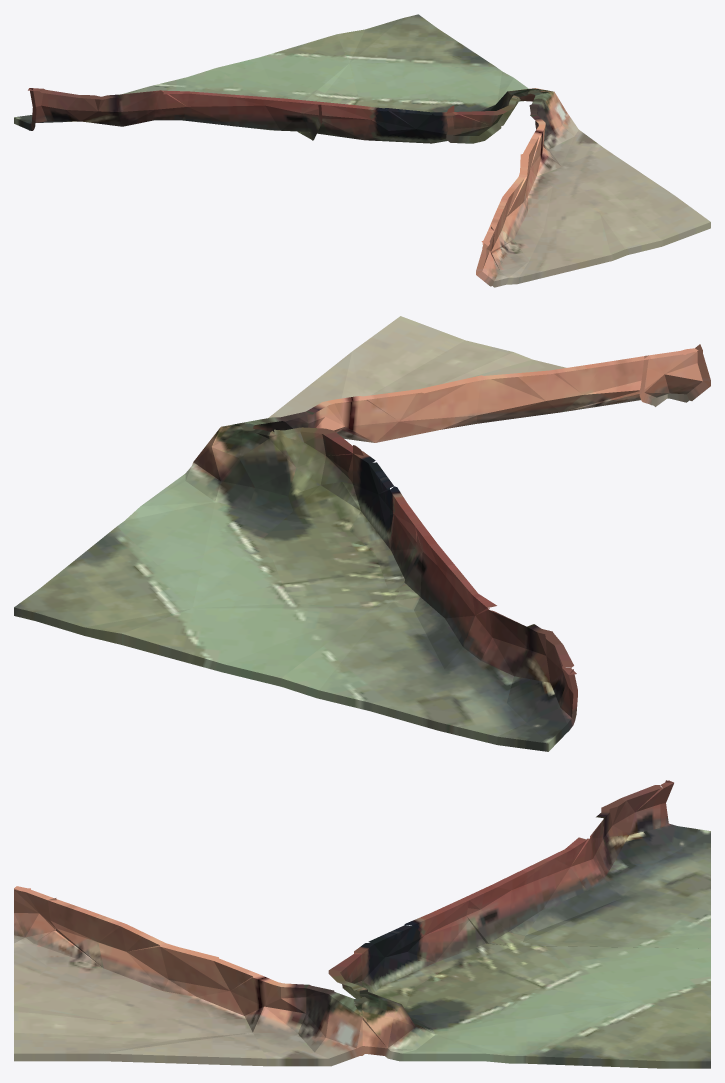
Rendered from BuildingMesh-00055.gltf.
3 renders of one model, top to bottom at view 1: azimuth 30°, elevation 25°; view 2: azimuth 150°, elevation 25°; view 3: azimuth 270°, elevation 25°, orthographic. The views are drawn at different scales.
Visible parts, largest first — view 1: BuildingMesh-00055; view 2: BuildingMesh-00055; view 3: BuildingMesh-00055.
Part boxes in pixels (left/top/right/bottom): BuildingMesh-00055: left=14, top=14, right=710, bottom=287; BuildingMesh-00055: left=14, top=316, right=710, bottom=751; BuildingMesh-00055: left=14, top=780, right=710, bottom=1068.
Size of the model in its own units: 0.7843 by 0.1059 by 0.9725.
Materials: 1 (1 with a texture image).
